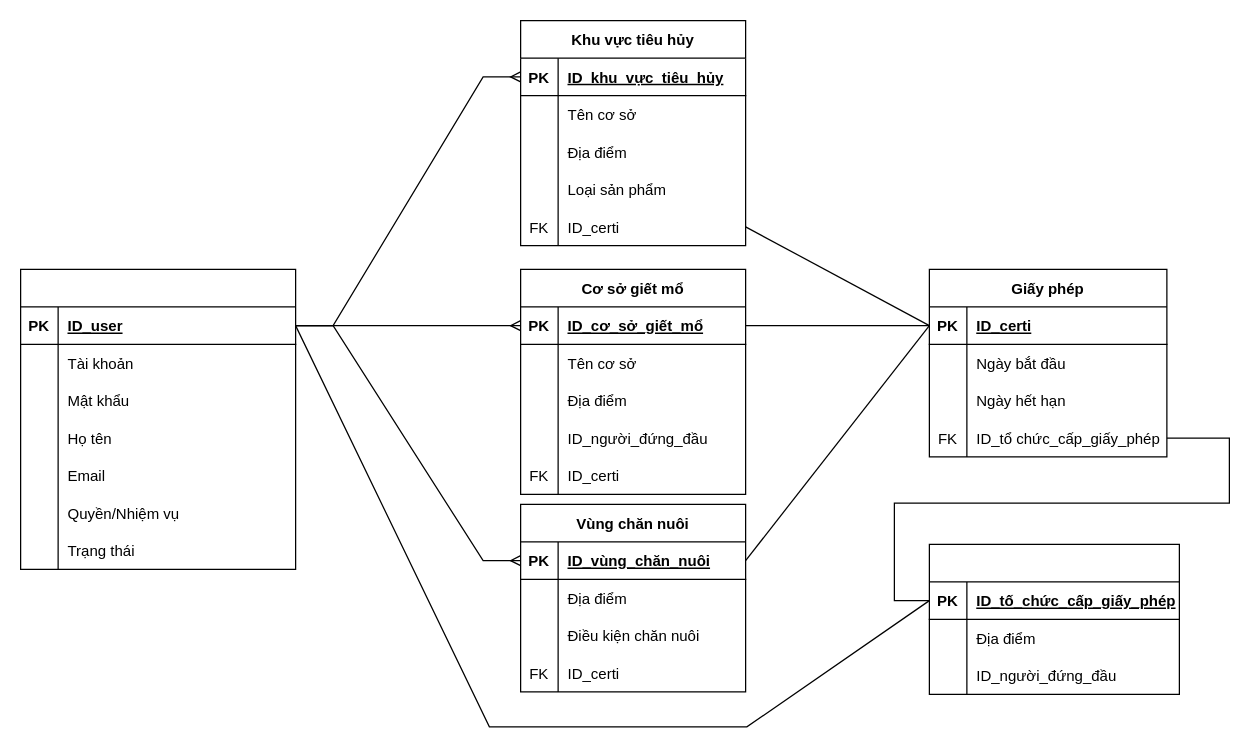
This 1250x748 diagram has some shape labels left out. Here are the shapes that lost their labels. From the top down, the box of each, then its label:
(19, 268, 296, 569): Cán bộ nghiệp vụ
(928, 543, 1179, 694): Tổ chức cấp giấy phép
